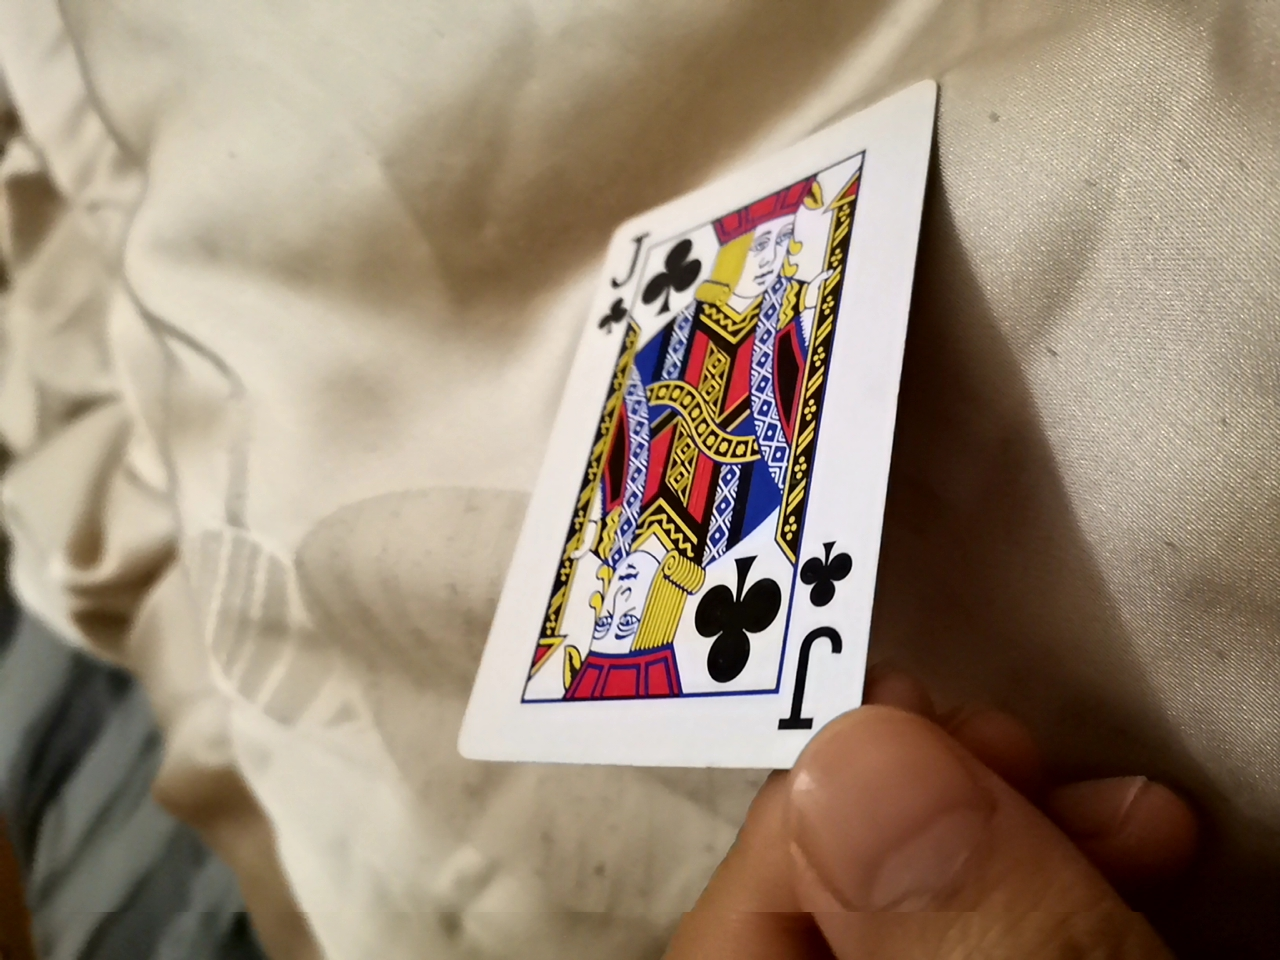mh j: (441, 115, 907, 792)
